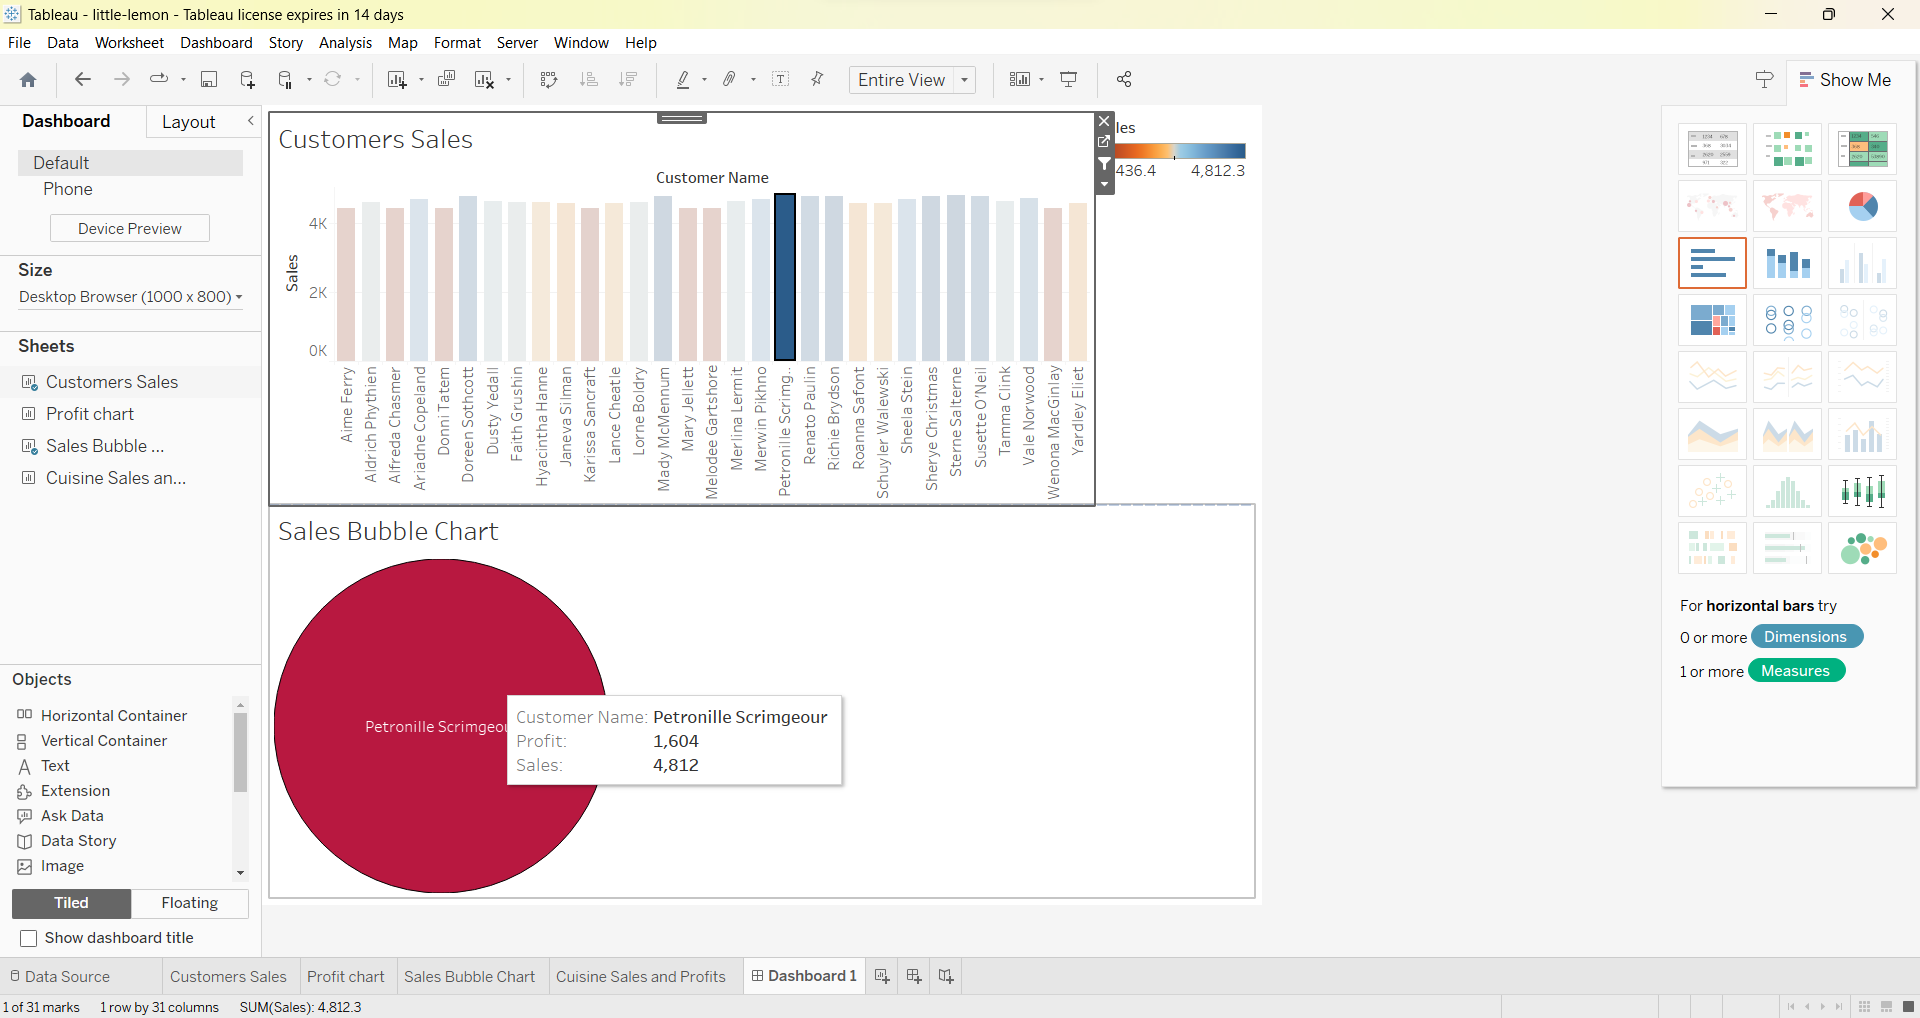

The page's visual inventory and layout, read from the dashboard file:
{"tool":"tableau","page":{"name":"Dashboard 1","canvas":[1000,800],"ordinal":0},"visuals":[{"type":"worksheet","title":"Customers Sales","mark":"Automatic","rows":["Sales"],"cols":["Customer Name"],"box":[8,8,824,392]},{"type":"legend","title":"Customers Sales","param":"[federated.1opycxv19ycqa11d3qmtc0w4wtae].[sum:Sales:qk]","box":[832,8,160,73]},{"type":"worksheet","title":"Sales Bubble Chart","mark":"Circle","box":[8,400,984,392]}]}

Visuals, with their boxes on the page's 1000x800 design canvas (x1, y1, x2, y2). These are canvas units, not pixel positions in the 1920x1018 screenshot, which may show the page scaled, cropped or inside an application window:
"Customers Sales" worksheet: rect(8, 8, 832, 400)
"Customers Sales" legend: rect(832, 8, 992, 81)
"Sales Bubble Chart" worksheet (Circle marks): rect(8, 400, 992, 792)
